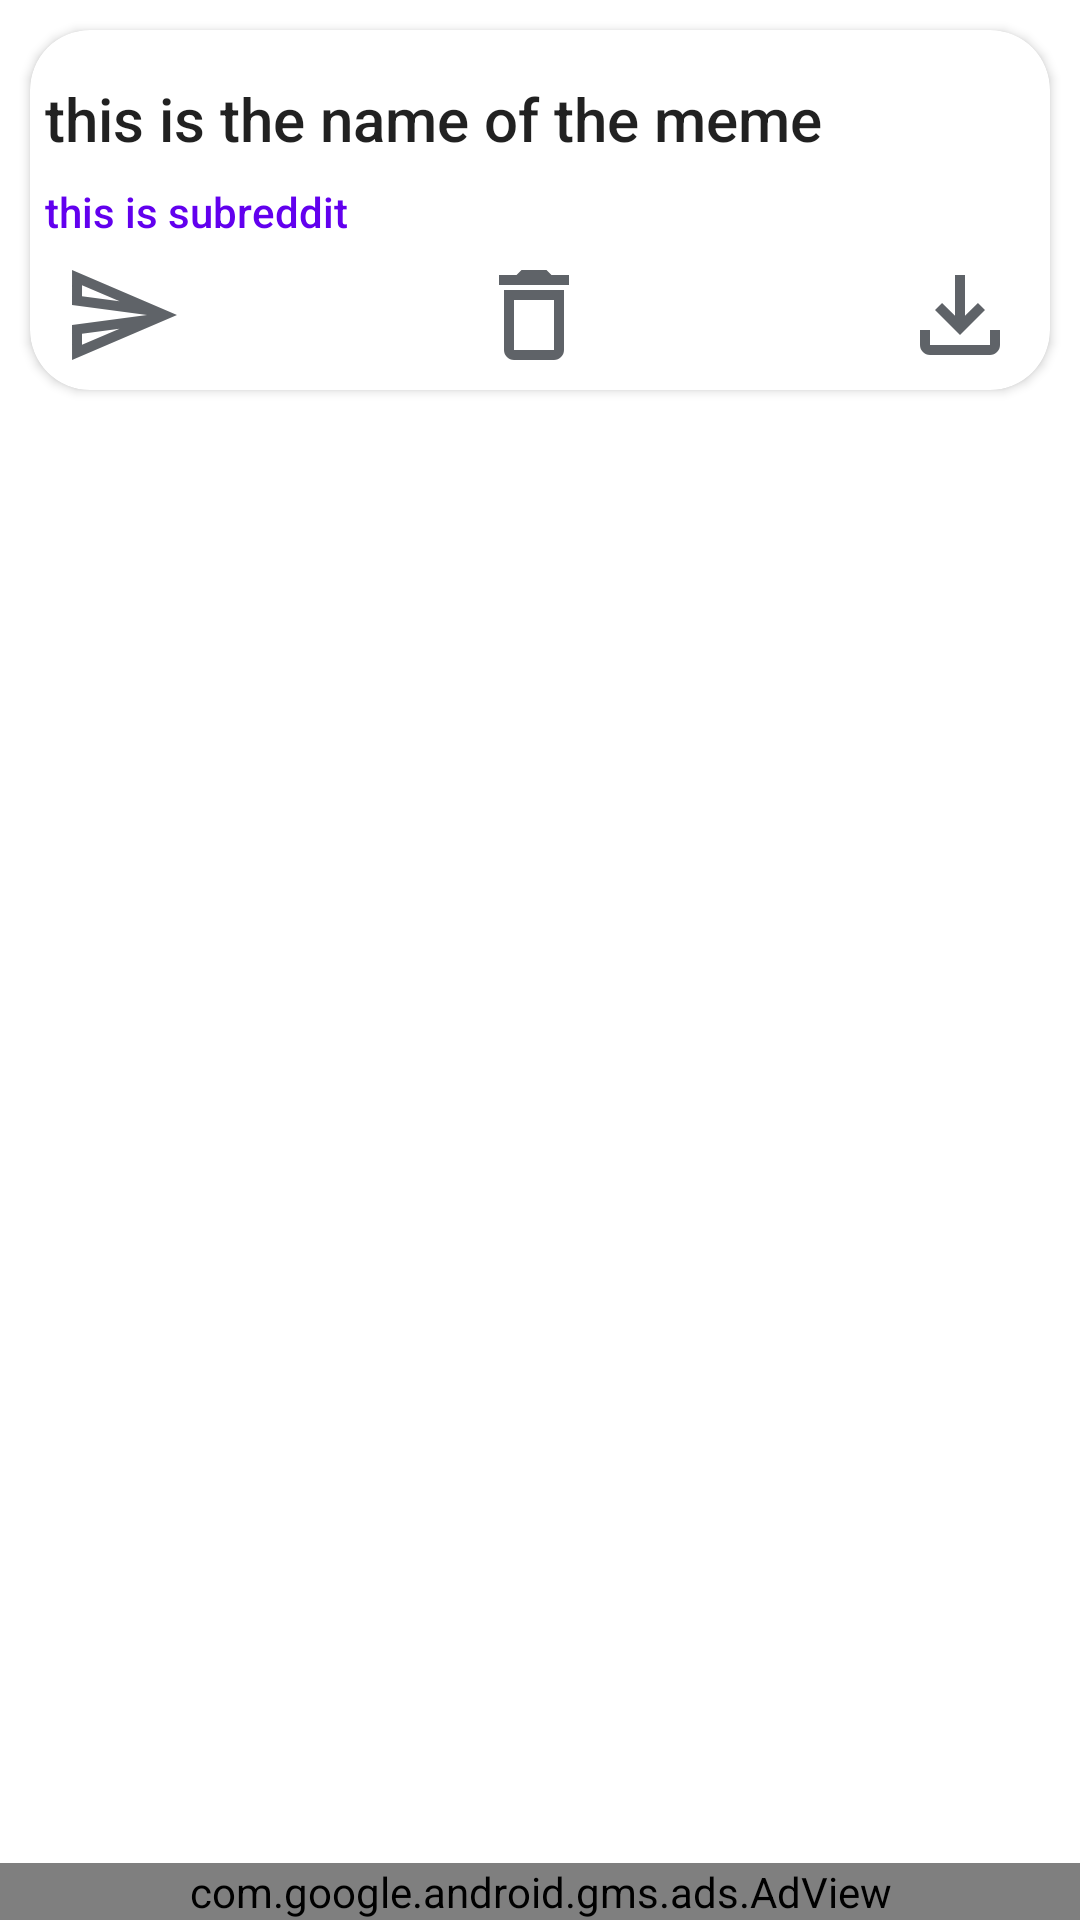

Icon click points for this 1080w x 1920h phone screenshot, format (x=x, y=y):
delete: (x=534, y=315)
file download: (x=960, y=315)
send: (x=124, y=315)
